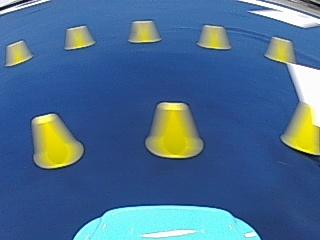cone: (146, 102, 203, 158), (30, 114, 81, 169), (280, 98, 318, 152), (265, 35, 295, 63), (197, 24, 229, 50), (129, 19, 161, 43), (64, 25, 94, 49), (6, 40, 32, 66)
